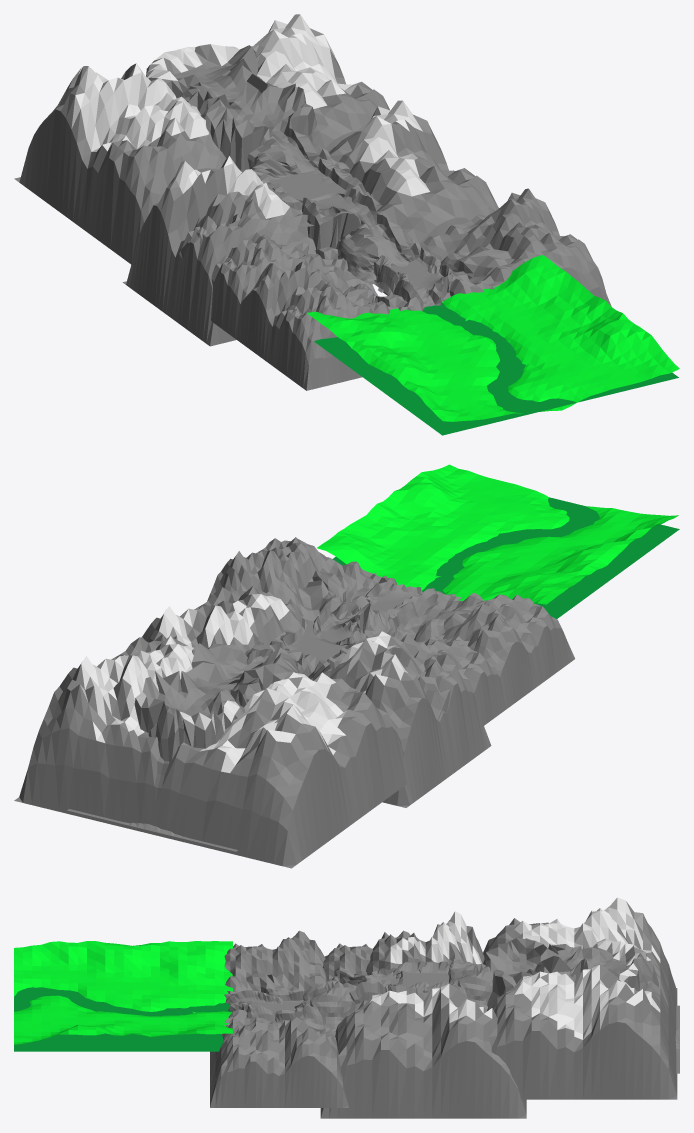
File: MAPAv5.fbx
3 views of the same model, one above another, from view 1: azimuth 30°, elevation 25°; view 2: azimuth 150°, elevation 25°; view 3: azimuth 270°, elevation 25° (orthographic). The views are drawn at different scales.
Visible parts, largest first — view 1: Landscape.008, Landscape.022, Landscape.002, Landscape.003, Landscape.004, Landscape.005, Landscape.001, Landscape_plane, 08, Landscape.010, 08.001, 04 (+6 smaller); view 2: Landscape.022, Landscape.008, Landscape.001, Landscape.002, Landscape.004, Landscape.005, 08.001, Landscape.003, Landscape_plane, 08, Landscape.010, 04 (+5 smaller); view 3: Landscape.001, Landscape.003, Landscape.008, Landscape.005, Landscape.022, Landscape_plane, Landscape.004, Landscape.002, 08, 08.001, 03, 07 (+6 smaller).
Boxes of the visible parts, left/top/right/bottom form: Landscape.008: left=306, top=255, right=679, bottom=421; Landscape.022: left=14, top=63, right=226, bottom=265; Landscape.002: left=122, top=156, right=315, bottom=346; Landscape.003: left=328, top=100, right=498, bottom=244; Landscape.004: left=237, top=261, right=422, bottom=390; Landscape.005: left=383, top=188, right=611, bottom=306; Landscape.001: left=252, top=14, right=389, bottom=151; Landscape_plane: left=314, top=302, right=678, bottom=435; 08: left=184, top=74, right=316, bottom=172; Landscape.010: left=176, top=214, right=357, bottom=339; 08.001: left=146, top=44, right=258, bottom=106; 04: left=302, top=188, right=389, bottom=249; Landscape.022: left=149, top=672, right=407, bottom=868; Landscape.008: left=317, top=464, right=678, bottom=604; Landscape.001: left=14, top=635, right=193, bottom=835; Landscape.002: left=315, top=631, right=491, bottom=807; Landscape.004: left=407, top=591, right=574, bottom=707; Landscape.005: left=207, top=537, right=397, bottom=621; 08.001: left=67, top=671, right=247, bottom=851; Landscape.003: left=141, top=585, right=312, bottom=653; Landscape_plane: left=332, top=497, right=679, bottom=618; 08: left=180, top=643, right=298, bottom=704; Landscape.010: left=414, top=640, right=507, bottom=726; 04: left=313, top=603, right=370, bottom=644; Landscape.001: left=487, top=964, right=677, bottom=1099; Landscape.003: left=320, top=983, right=526, bottom=1118; Landscape.008: left=14, top=941, right=232, bottom=1044; Landscape.005: left=210, top=1009, right=348, bottom=1107; Landscape.022: left=483, top=897, right=677, bottom=1035; Landscape_plane: left=14, top=987, right=232, bottom=1051; Landscape.004: left=224, top=930, right=327, bottom=1031; Landscape.002: left=366, top=911, right=484, bottom=975; 08: left=485, top=938, right=576, bottom=1006; 08.001: left=563, top=938, right=679, bottom=1073; 03: left=294, top=980, right=355, bottom=1029; 07: left=448, top=958, right=493, bottom=1010.
Size of the model in its own units: 84166 by 38912 by 192791.
